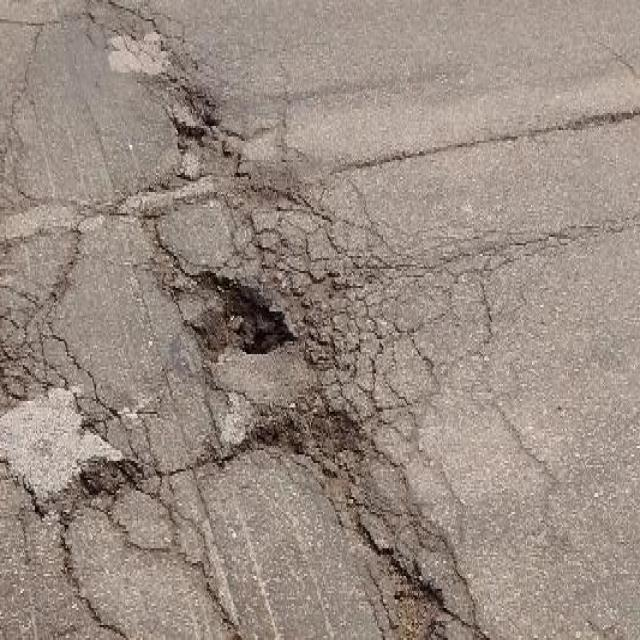pothole: (203, 266, 299, 364), (255, 399, 362, 459), (383, 561, 452, 638), (166, 81, 222, 156), (75, 454, 142, 510)
